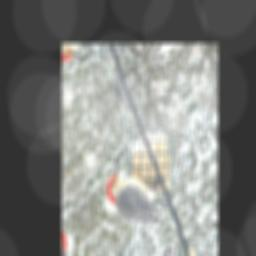Woodpecker: (102, 137, 172, 252)
